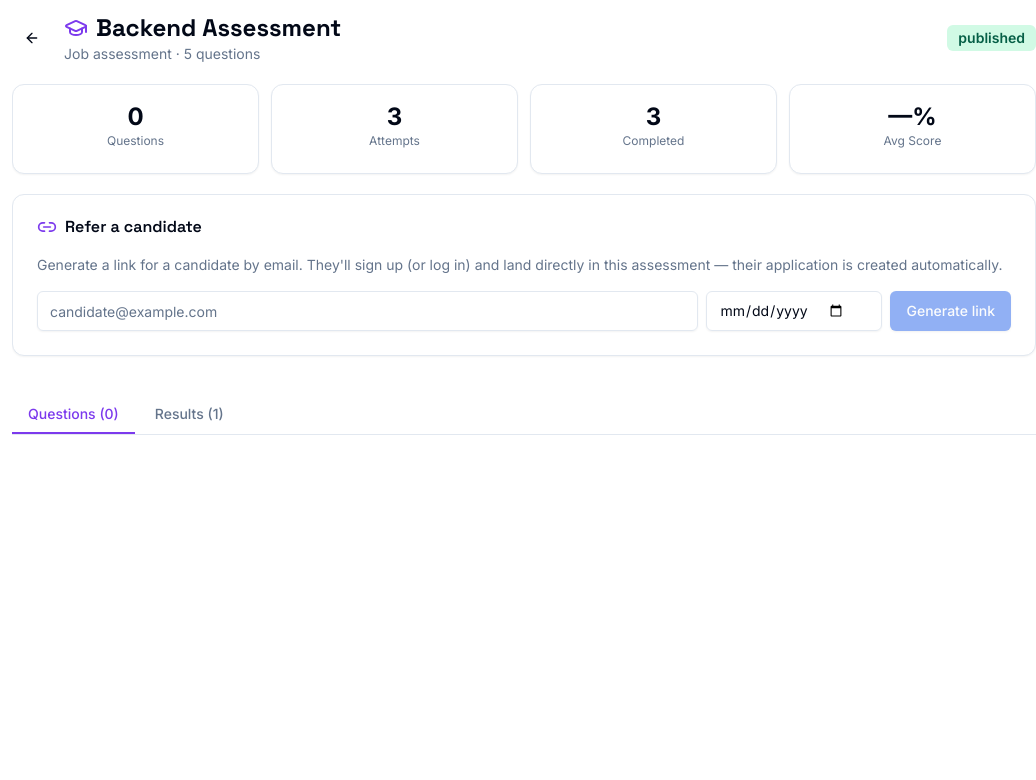
Test: RecruiterJobAssessmentPage — "no answers" bucket (PR #1641 F4 remainder) › (a) puts a completed zero-answer unscored attempt in the bucket
Step 1. Click the button "Results (1)" → (189, 415), box x1=139 y1=396 x2=240 y2=434
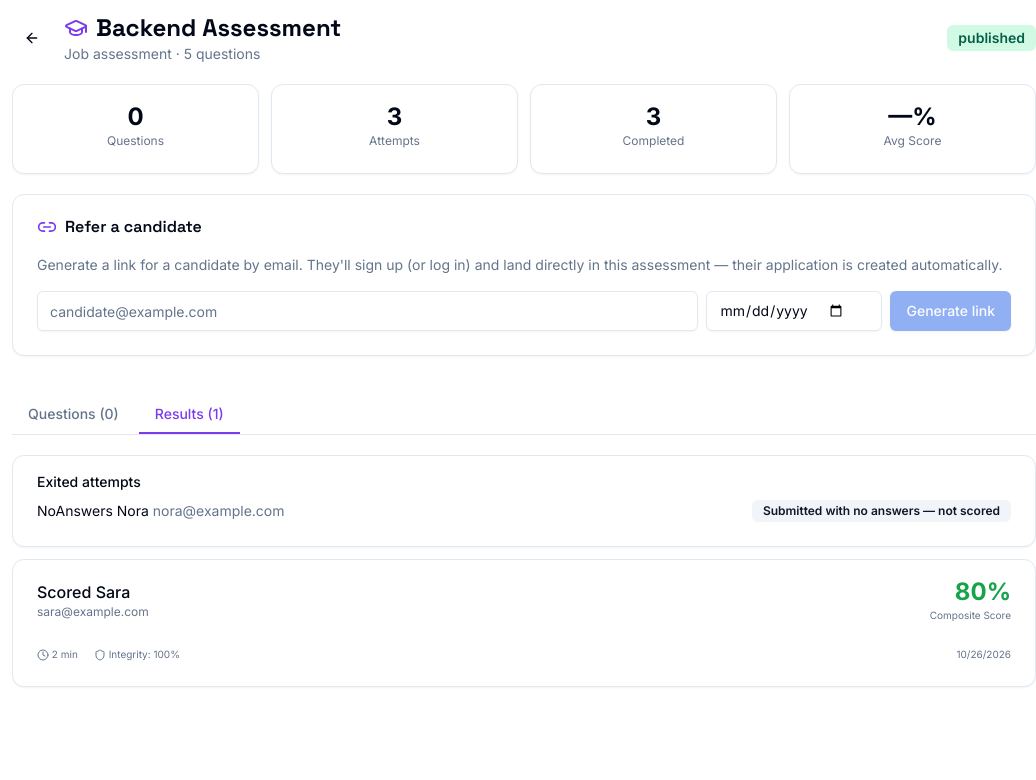
Now the text "Scored Sara" is shown, box x1=37 y1=582 x2=130 y2=602
Now the text "Submitted with no answers — not scored" is shown once, box x1=752 y1=500 x2=1011 y2=522
Now the text "NoAnswers Nora" shows "Submitted with no answers — not scored", box x1=763 y1=503 x2=1000 y2=518
